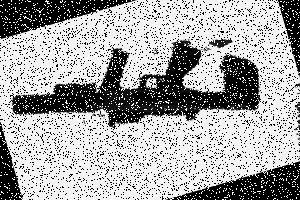SMG: (3, 12, 268, 176)
